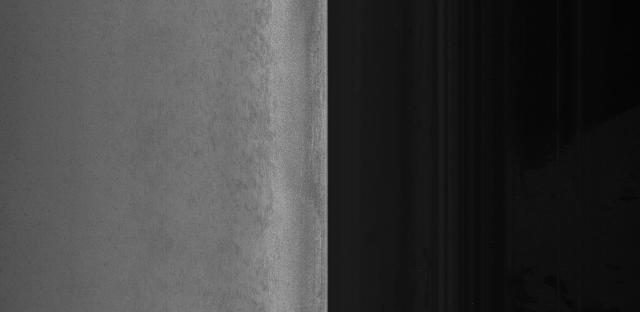silk_spot: (214, 123, 263, 199)
